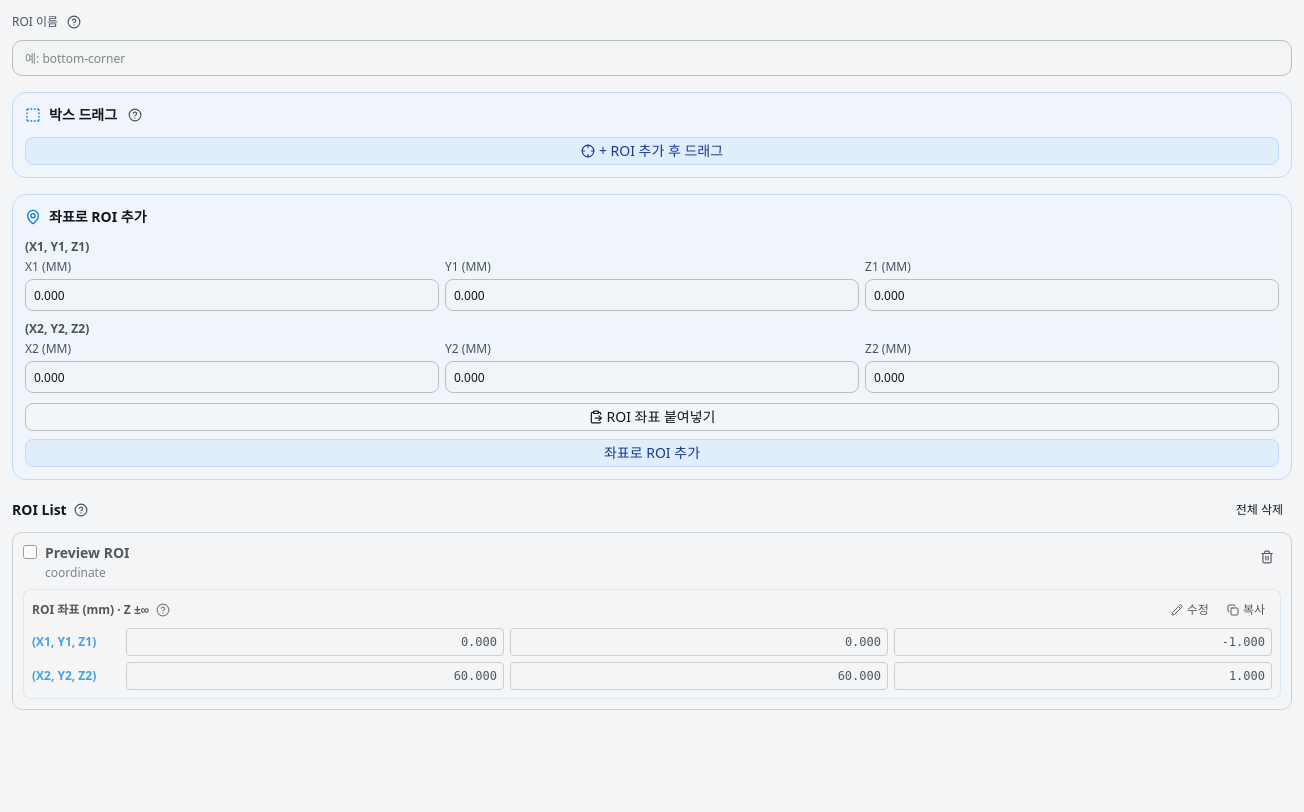
Test: rejects invalid and empty regions without changing the original ROI and supports cancelling a draft
Click the button with aria-label "Preview ROI ROI 좌표 수정" at (1190, 610), box [1164, 598, 1216, 622]
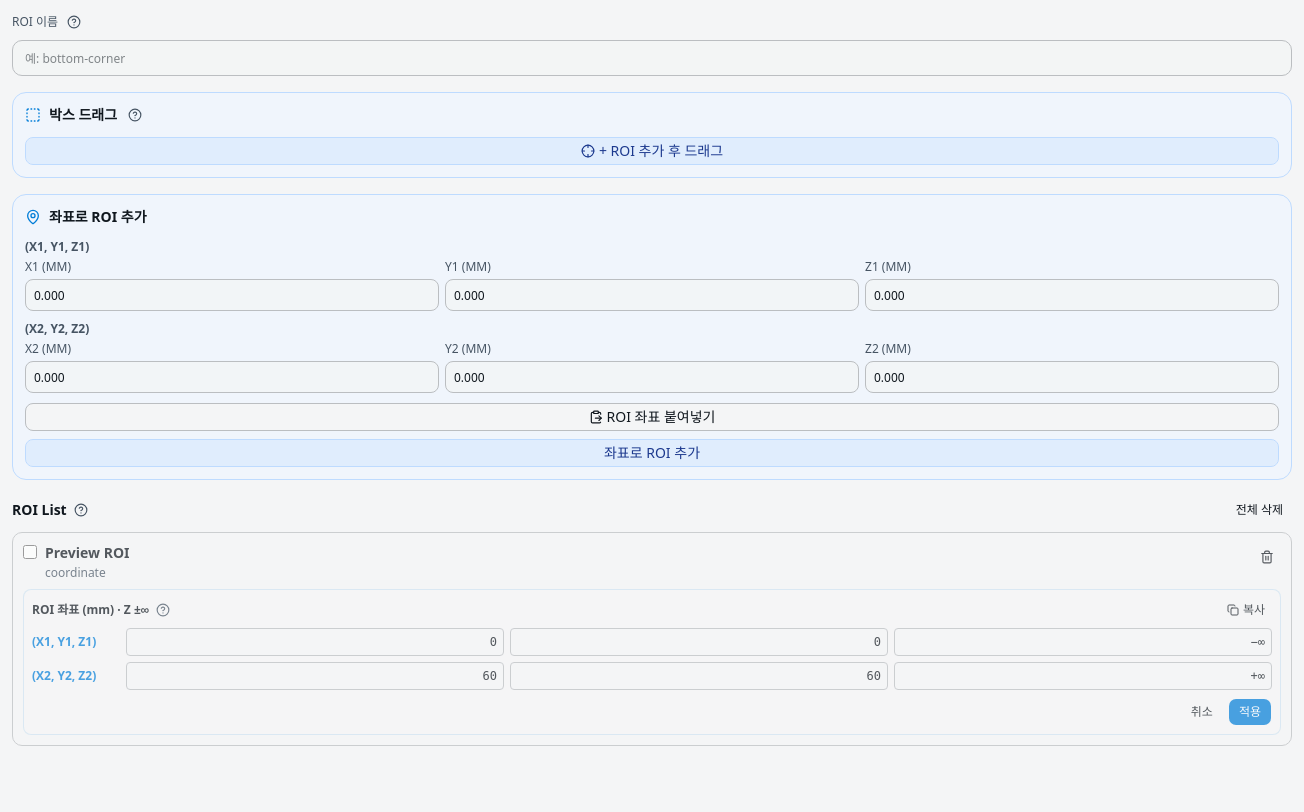
Clear the field named "Preview ROI X1" at (315, 642), box [126, 628, 504, 656]
Click the button with aria-label "Preview ROI 좌표 적용" at (1250, 712), box [1228, 698, 1272, 726]
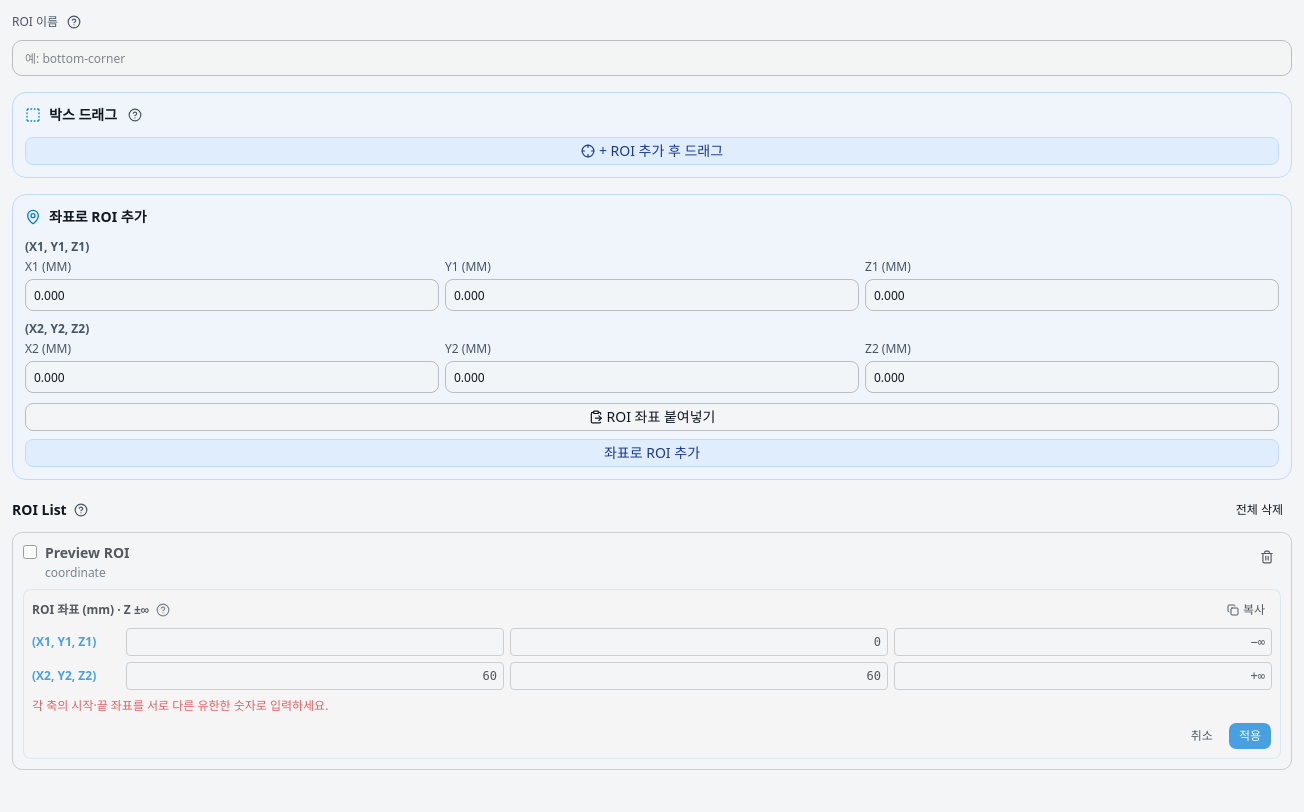
Result: the message shows "숫자" at [32, 697, 328, 714]
Type "100" into the field named "Preview ROI X1" at (315, 642), box [126, 628, 504, 656]
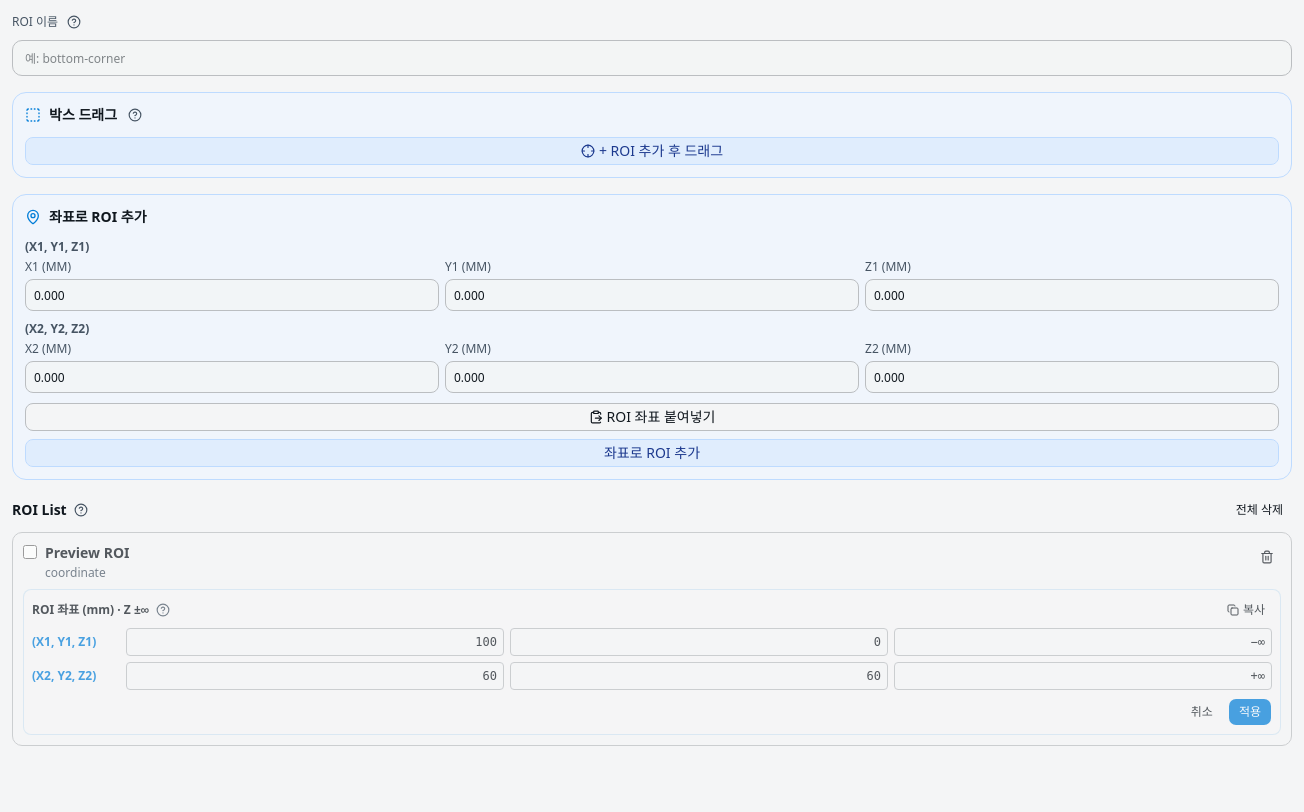
Replace the text in the field named "Preview ROI X2" with "110" at (315, 676), box [126, 662, 504, 690]
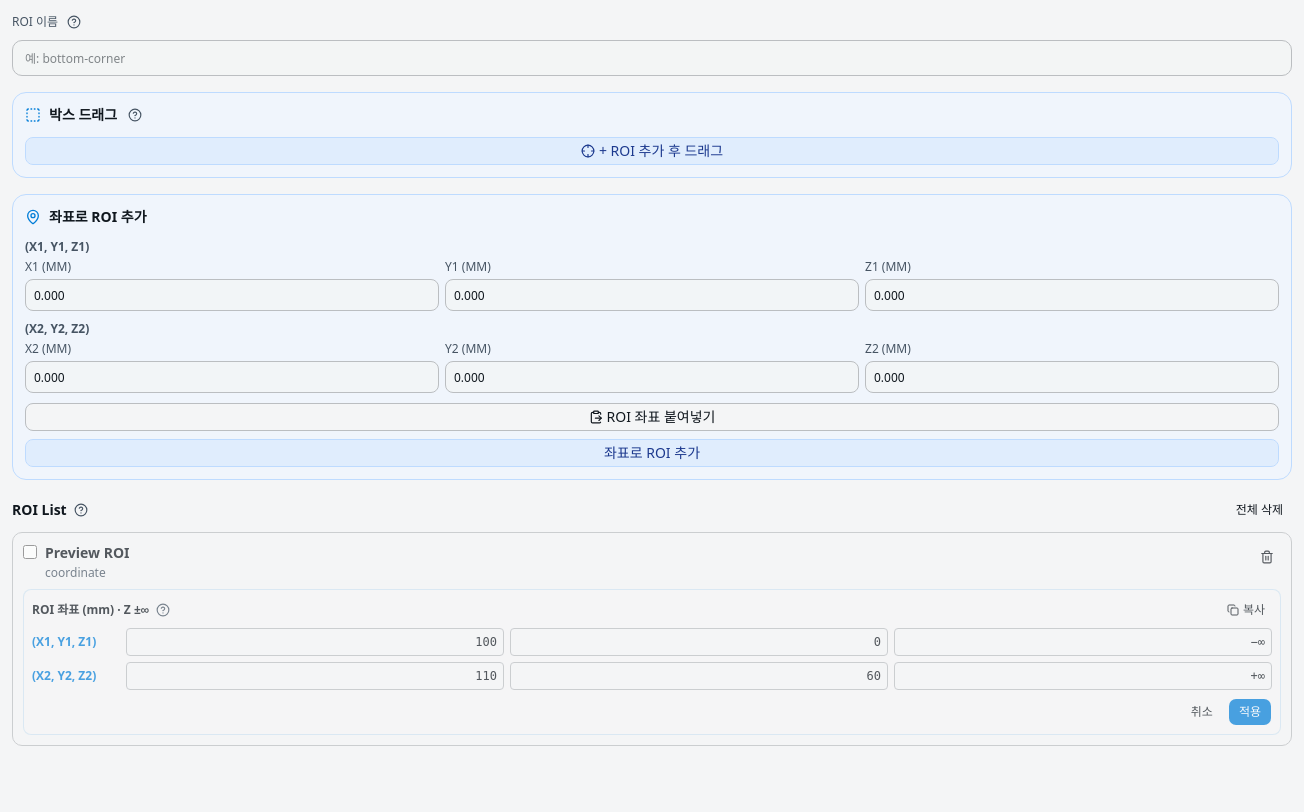
Click the button with aria-label "Preview ROI 좌표 적용" at (1250, 712), box [1228, 698, 1272, 726]
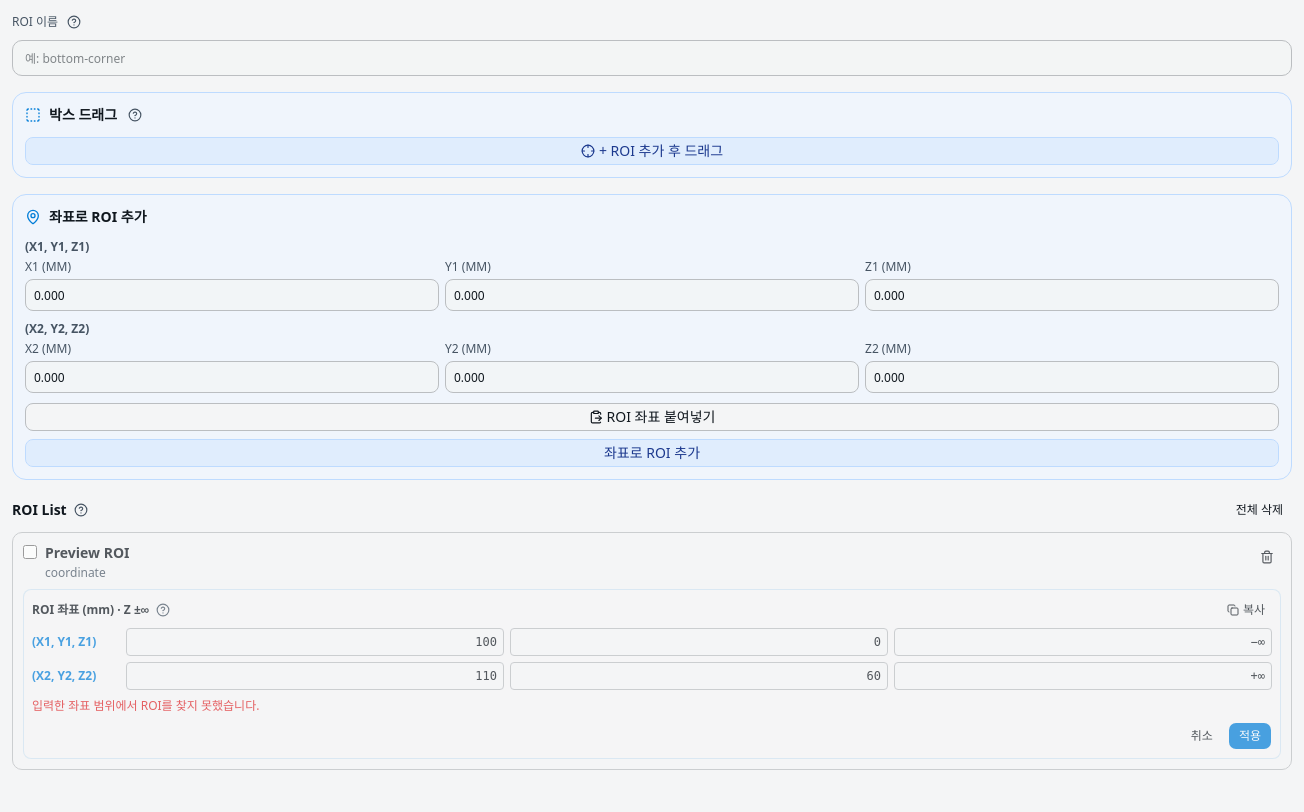
Result: the message shows "찾지 못했습니다" at [32, 697, 259, 714]
Click the button with aria-label "Preview ROI 좌표 수정 취소" at (1202, 736), box [1180, 722, 1224, 750]
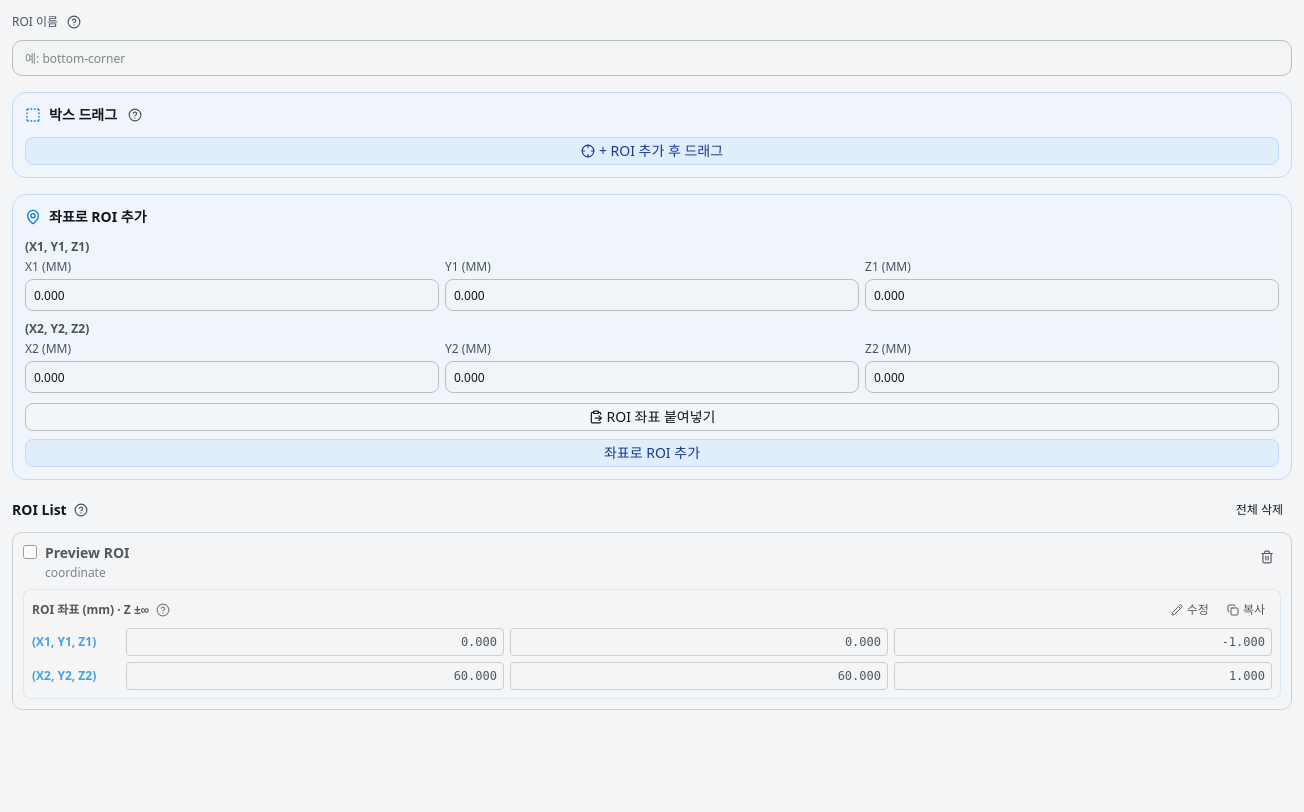
Result: the field named "Preview ROI X1" holds "0.000" at [126, 628, 504, 656]
Result: the message "입력한 좌표 범위에서 ROI를 찾지 못했습니다." is gone
